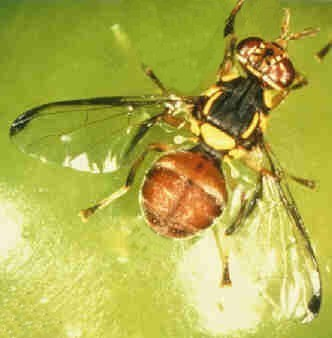Fruit fly: (27, 4, 330, 328)
